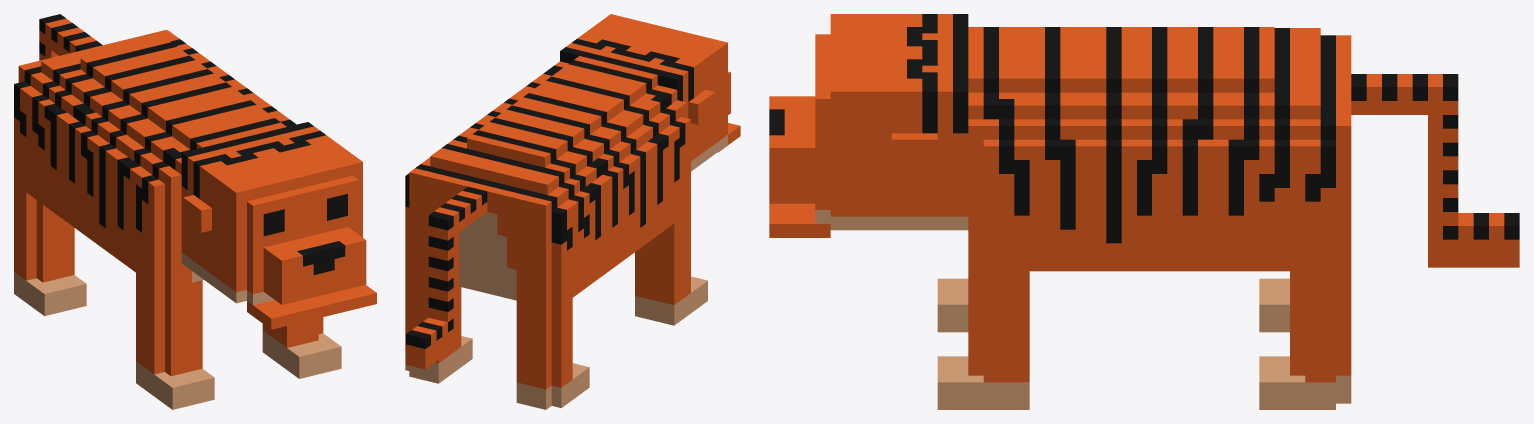
File: Tiger.obj
3 renders of one model, left to right at view 1: azimuth 30°, elevation 25°; view 2: azimuth 150°, elevation 25°; view 3: azimuth 270°, elevation 25°, orthographic. The views are drawn at different scales.
Visible parts, largest first — view 1: Tiger; view 2: Tiger; view 3: Tiger.
Part boxes in pixels (x1,y1,x2,y2): Tiger: (14,14,376,409); Tiger: (405,14,740,409); Tiger: (769,14,1519,409).
Bounding box in the file's own units: 16 × 22 × 49.
1 material, 1 textured.
